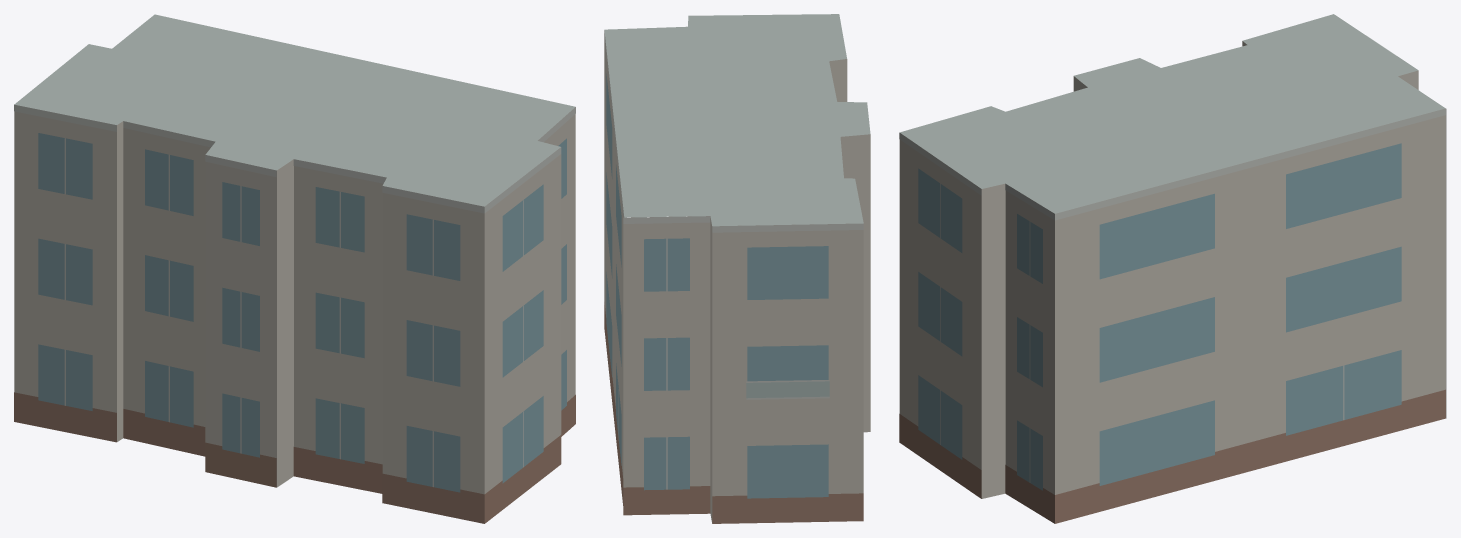
The model's file is survey-upis-32592273.glb.
3 renders of one model, left to right at view 1: azimuth 30°, elevation 25°; view 2: azimuth 150°, elevation 25°; view 3: azimuth 270°, elevation 25°, orthographic. The views are drawn at different scales.
Visible parts, largest first — view 1: survey-upis-32592273.tmp; view 2: survey-upis-32592273.tmp; view 3: survey-upis-32592273.tmp.
Boxes of the visible parts, left/top/right/bottom form: survey-upis-32592273.tmp: left=14, top=14, right=575, bottom=523; survey-upis-32592273.tmp: left=604, top=14, right=870, bottom=523; survey-upis-32592273.tmp: left=899, top=14, right=1446, bottom=523.
Bounding box in the file's own units: 15.63 × 11.3 × 18.08.
